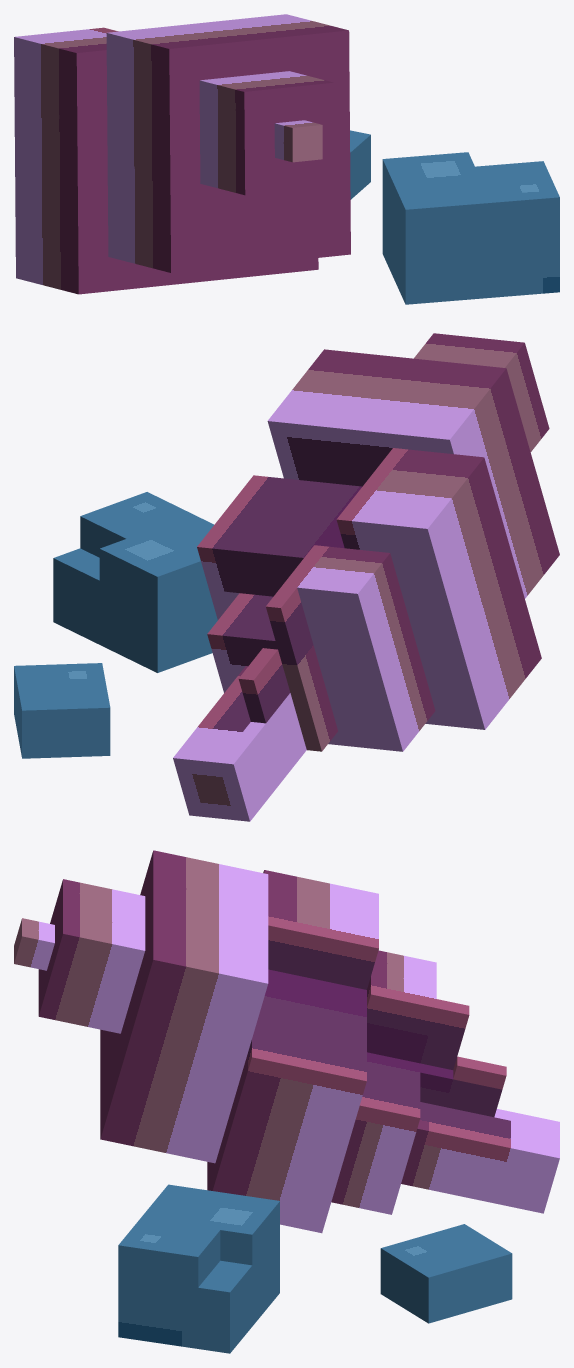
The model's file is conch_purple.glb.
3 renders of one model, top to bottom at view 1: azimuth 30°, elevation 25°; view 2: azimuth 150°, elevation 25°; view 3: azimuth 270°, elevation 25°, orthographic. The views are drawn at different scales.
Parts seen in each view (by area): view 1: conch-Local, stone-Local, stone1-Local; view 2: conch-Local, stone-Local, stone1-Local; view 3: conch-Local, stone-Local, stone1-Local.
Boxes of the visible parts, left/top/right/bottom form: conch-Local: left=14, top=14, right=350, bottom=294; stone-Local: left=382, top=152, right=559, bottom=304; stone1-Local: left=350, top=130, right=370, bottom=199; conch-Local: left=173, top=333, right=559, bottom=821; stone-Local: left=53, top=492, right=217, bottom=672; stone1-Local: left=14, top=663, right=110, bottom=758; conch-Local: left=14, top=850, right=559, bottom=1233; stone-Local: left=118, top=1184, right=279, bottom=1353; stone1-Local: left=380, top=1224, right=512, bottom=1323.
Size of the model in its own units: 31.31 by 20.28 by 32.28.
Materials: 3 (3 with a texture image).
